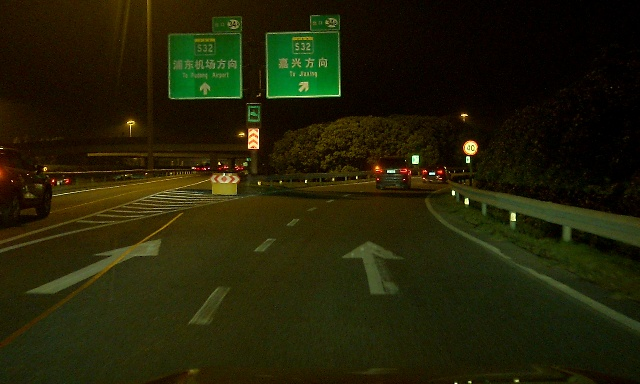car: (0, 147, 53, 226), (375, 157, 411, 190), (421, 165, 452, 184)
